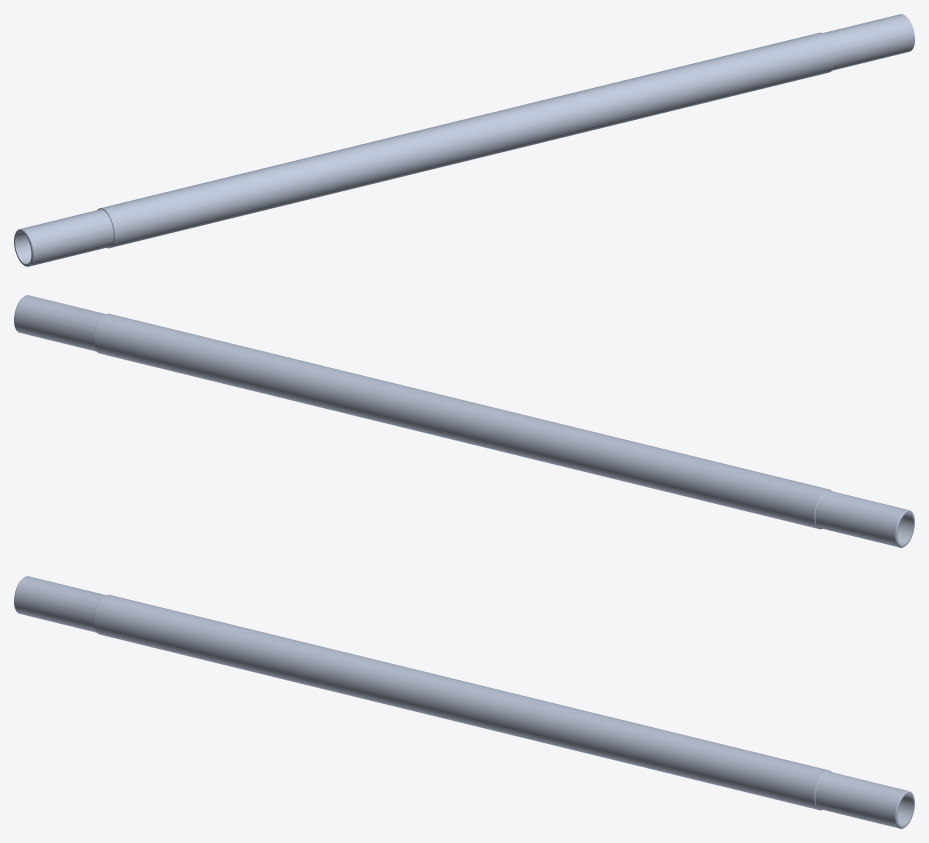
File: Rocker_Pivot_Thru_Shaft_1.dae
3 renders of one model, top to bottom at view 1: azimuth 30°, elevation 25°; view 2: azimuth 150°, elevation 25°; view 3: azimuth 330°, elevation 25°, orthographic.
Visible parts, largest first — view 1: node0; view 2: node0; view 3: node0.
Part boxes in pixels (left/top/right/bottom): node0: left=14, top=14, right=914, bottom=266; node0: left=14, top=295, right=914, bottom=547; node0: left=14, top=576, right=914, bottom=828.
Bounding box in the file's own units: 0.7874 × 0.0318 × 0.0318.
